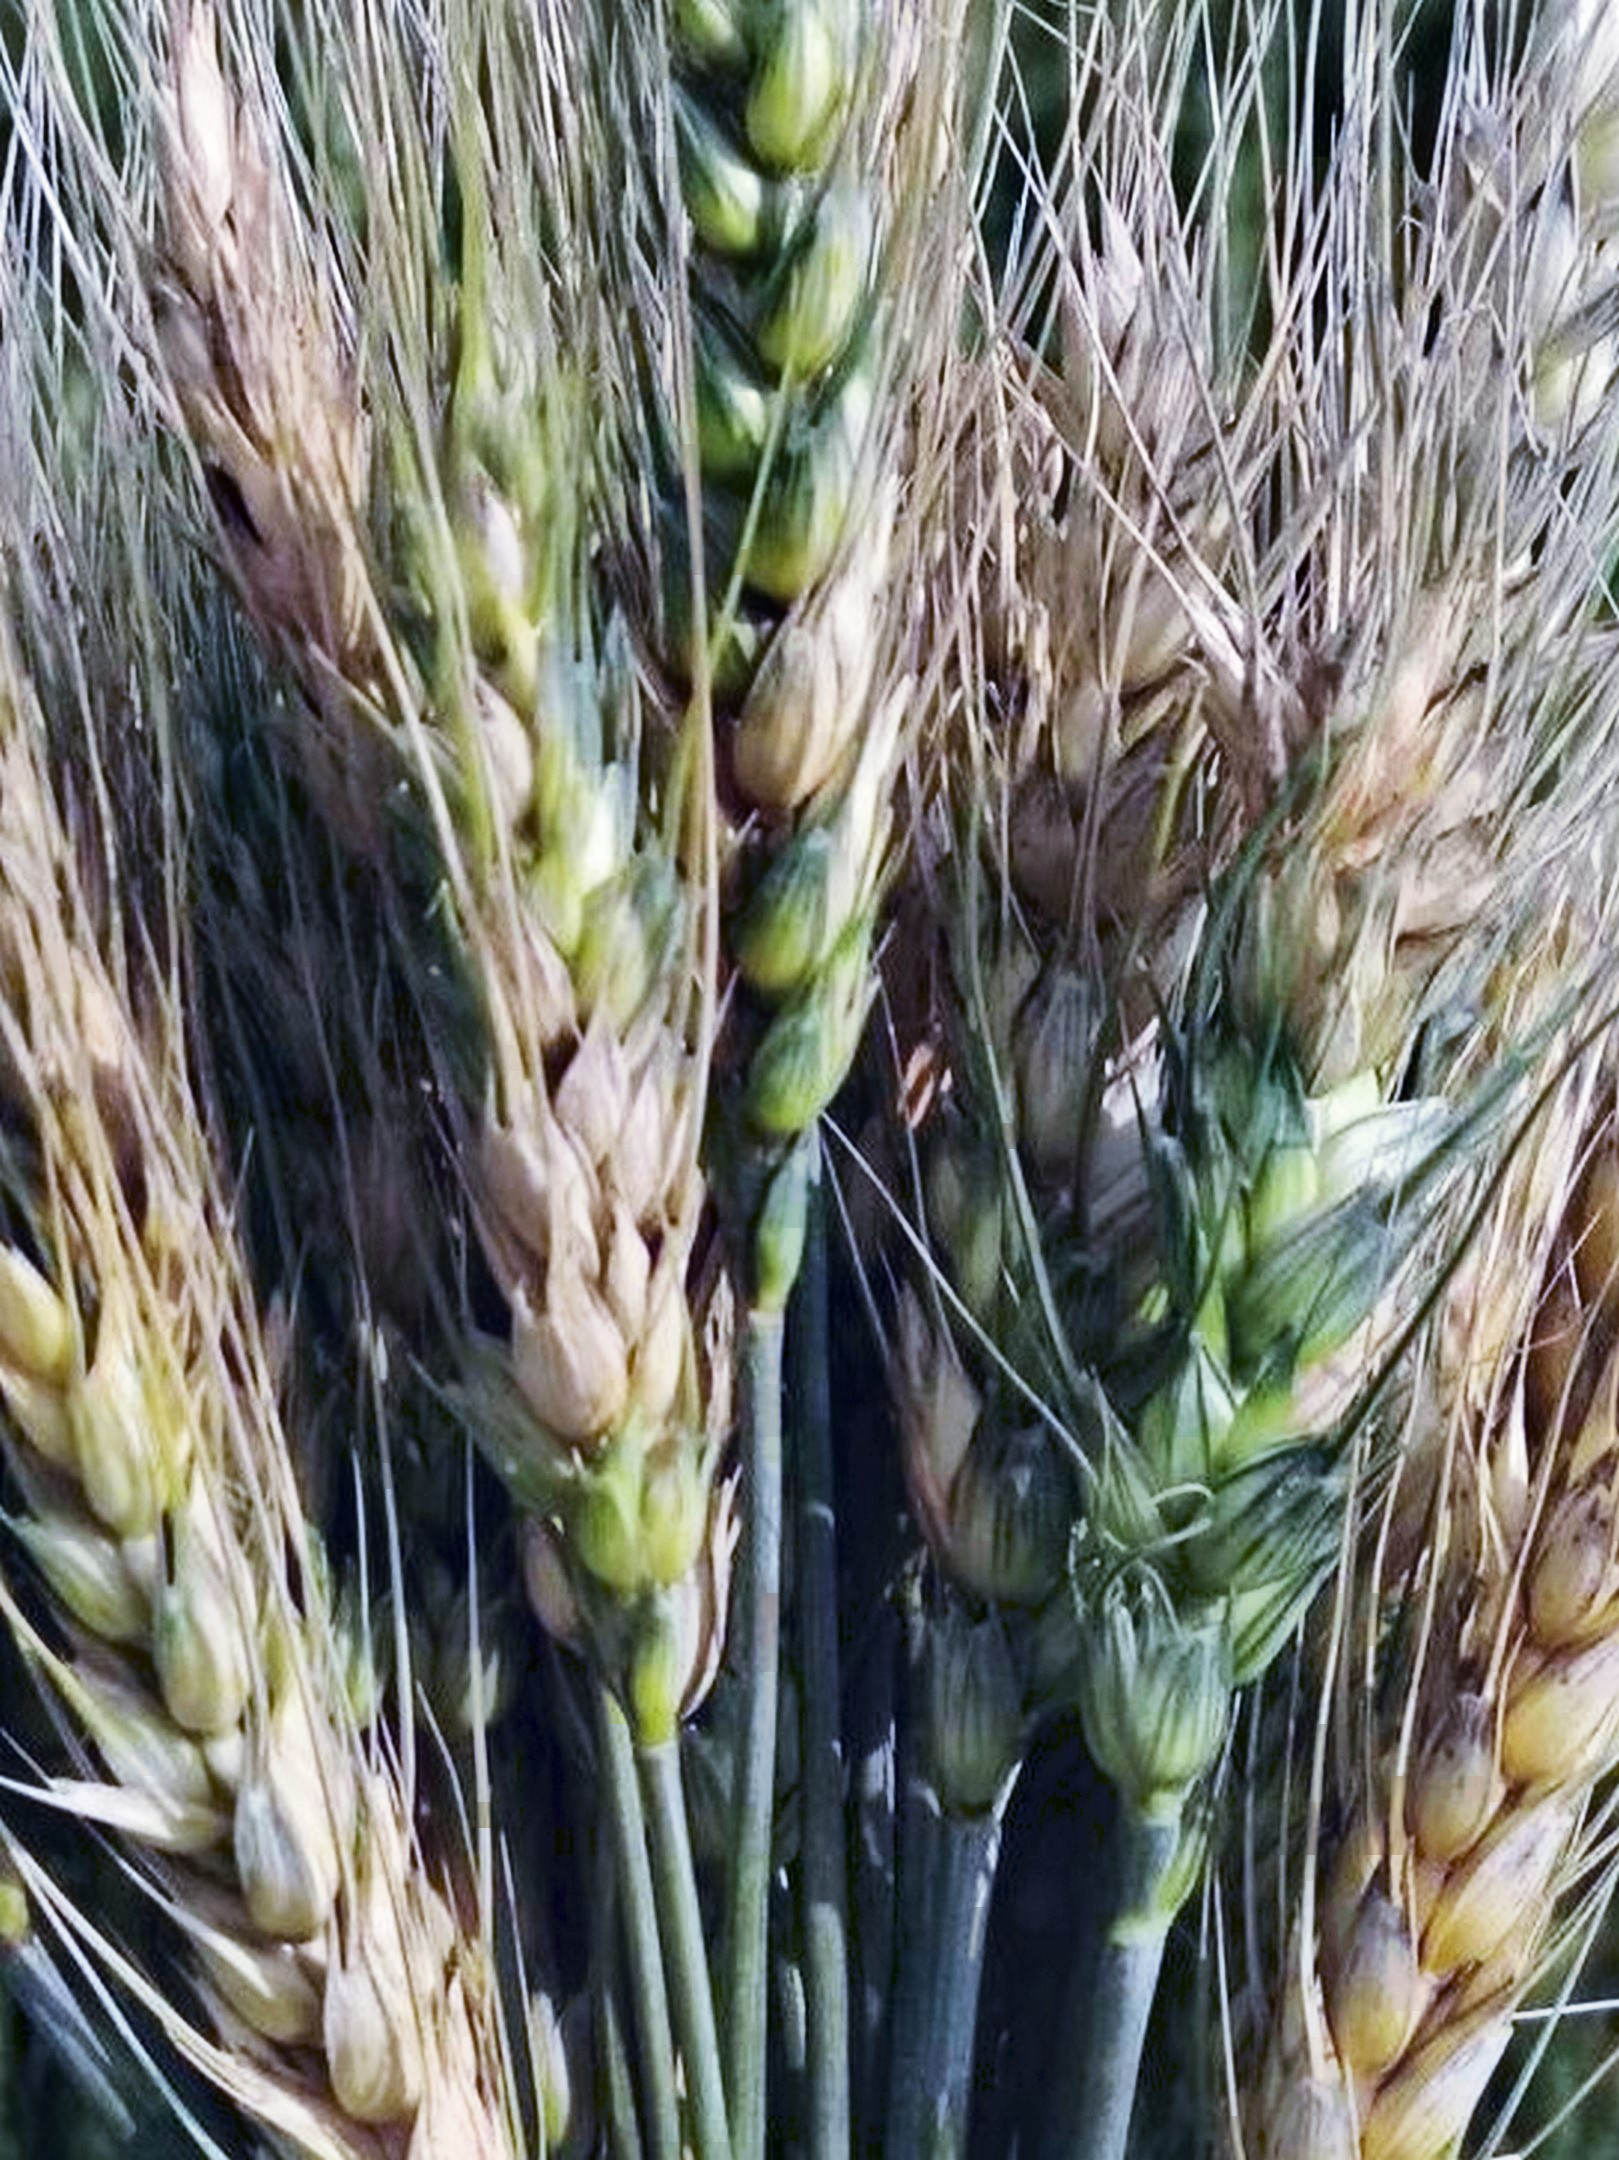Wheat scab: (10, 1282, 503, 2160), (646, 24, 954, 1201)
